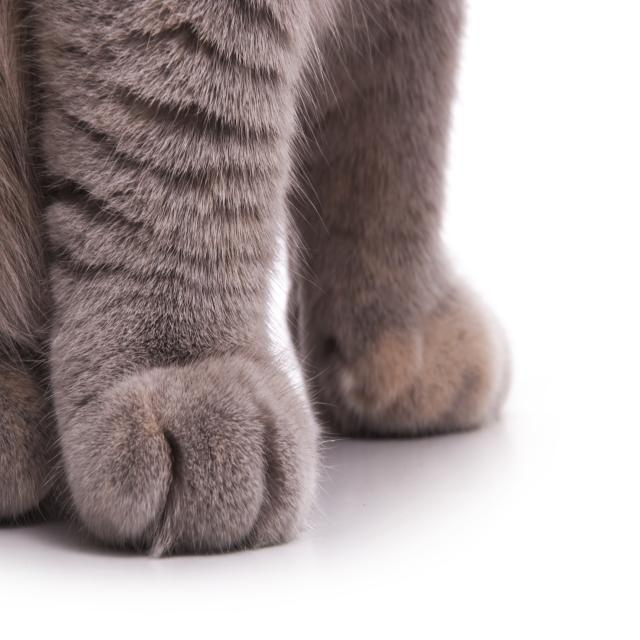Healthy skin: (76, 26, 250, 340), (98, 378, 297, 488), (362, 36, 415, 308), (14, 13, 72, 204)
